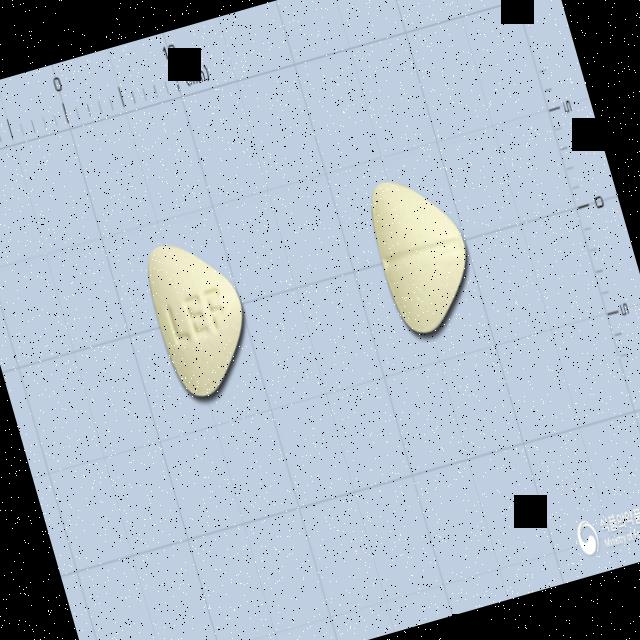Hanlim Leflunomide: (138, 228, 264, 406)
